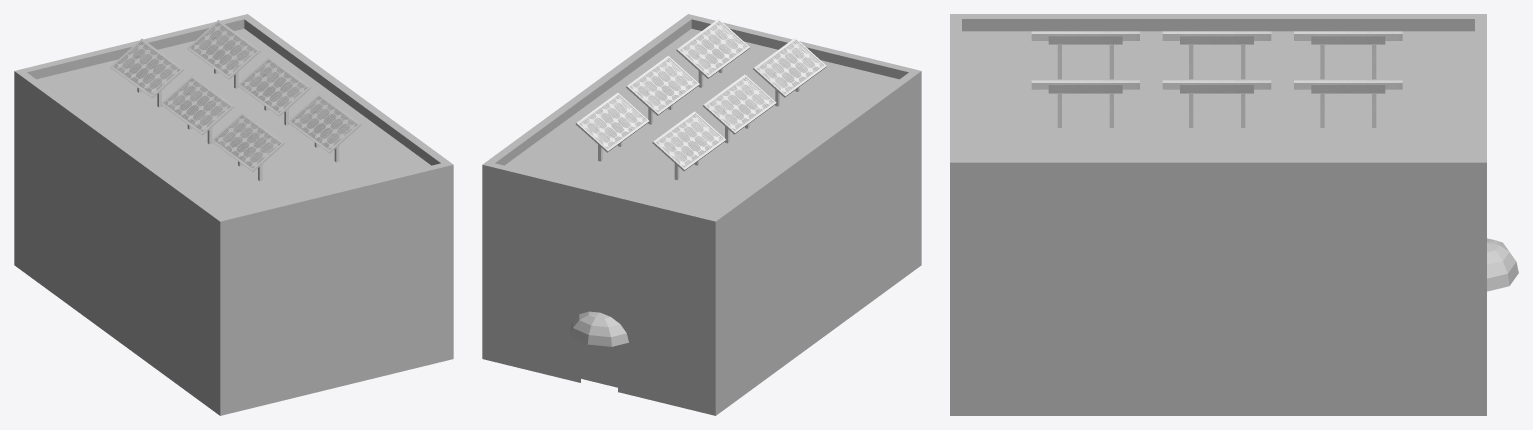
Rendered from commerce_building_B.fbx.
The picture shows the model from 3 angles, left to right: view 1: azimuth 30°, elevation 25°; view 2: azimuth 150°, elevation 25°; view 3: azimuth 270°, elevation 25°; orthographic projection. The views are drawn at different scales.
Parts seen in each view (by area): view 1: building_B_Base, solar_faces, solar_bases; view 2: building_B_Base, windows, solar_faces, solar_bases, awning; view 3: building_B_Base, solar_bases, awning.
Part boxes in pixels (left/top/right/bottom): building_B_Base: left=14, top=14, right=453, bottom=415; solar_faces: left=113, top=22, right=357, bottom=168; solar_bases: left=110, top=20, right=361, bottom=180; building_B_Base: left=482, top=14, right=921, bottom=415; windows: left=490, top=188, right=696, bottom=398; solar_faces: left=579, top=21, right=823, bottom=167; solar_bases: left=575, top=19, right=826, bottom=180; awning: left=570, top=311, right=628, bottom=346; building_B_Base: left=950, top=14, right=1486, bottom=415; solar_bases: left=1031, top=31, right=1402, bottom=127; awning: left=1487, top=238, right=1518, bottom=291.
Size of the model in its own units: 1169 by 1088 by 1891.
